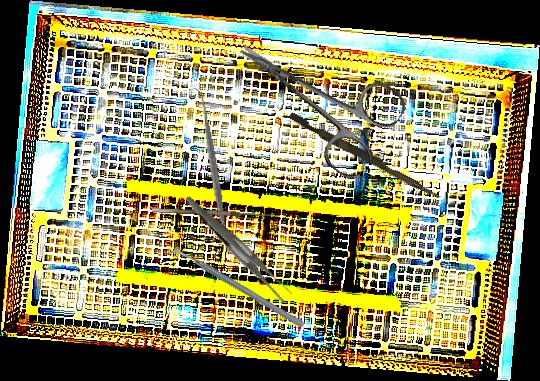Chopper: (164, 209, 306, 367)
Dressing Forceps: (185, 174, 295, 322)
Hook Surgical: (152, 201, 281, 219)
Iris Scissors: (215, 4, 412, 184)
Pusher: (286, 111, 445, 201)
Spatula Surgical: (191, 85, 237, 256)
